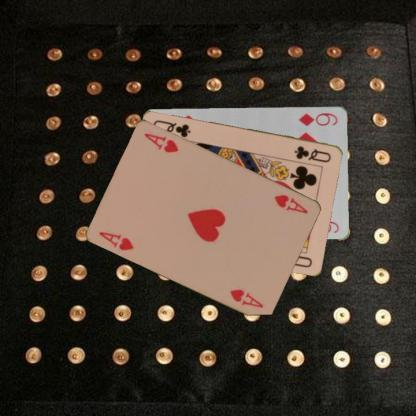6d: (296, 110, 339, 127)
Ah: (97, 229, 135, 253), (272, 192, 310, 215)
Qc: (292, 142, 333, 164)
